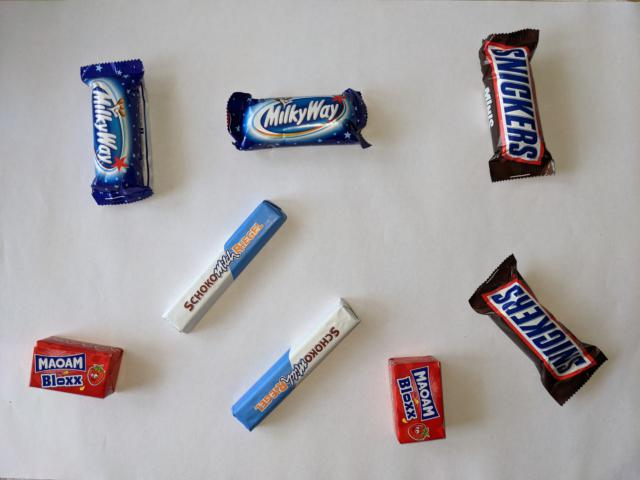MAOAM: (24, 334, 126, 403), (385, 353, 448, 446)
MilkyWay: (77, 55, 159, 208), (224, 85, 374, 152)
Schokoriegel: (227, 293, 366, 435), (157, 197, 290, 338)
Snickers: (466, 251, 610, 408), (477, 27, 559, 184)
